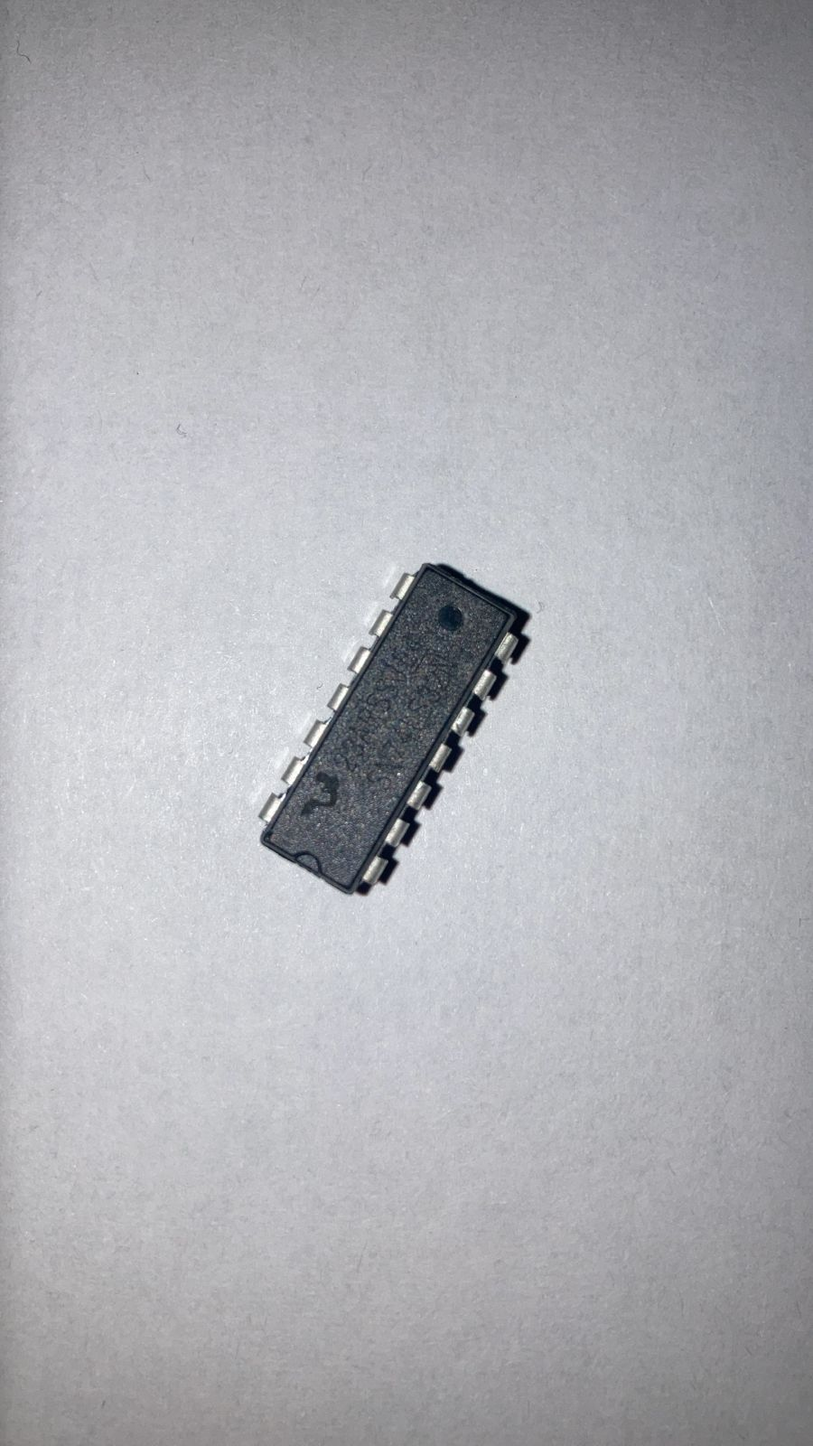IC: (243, 551, 537, 908)
notch: (292, 849, 325, 877)
